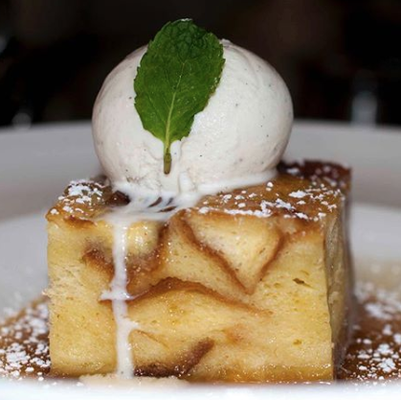soup: (35, 13, 376, 388)
